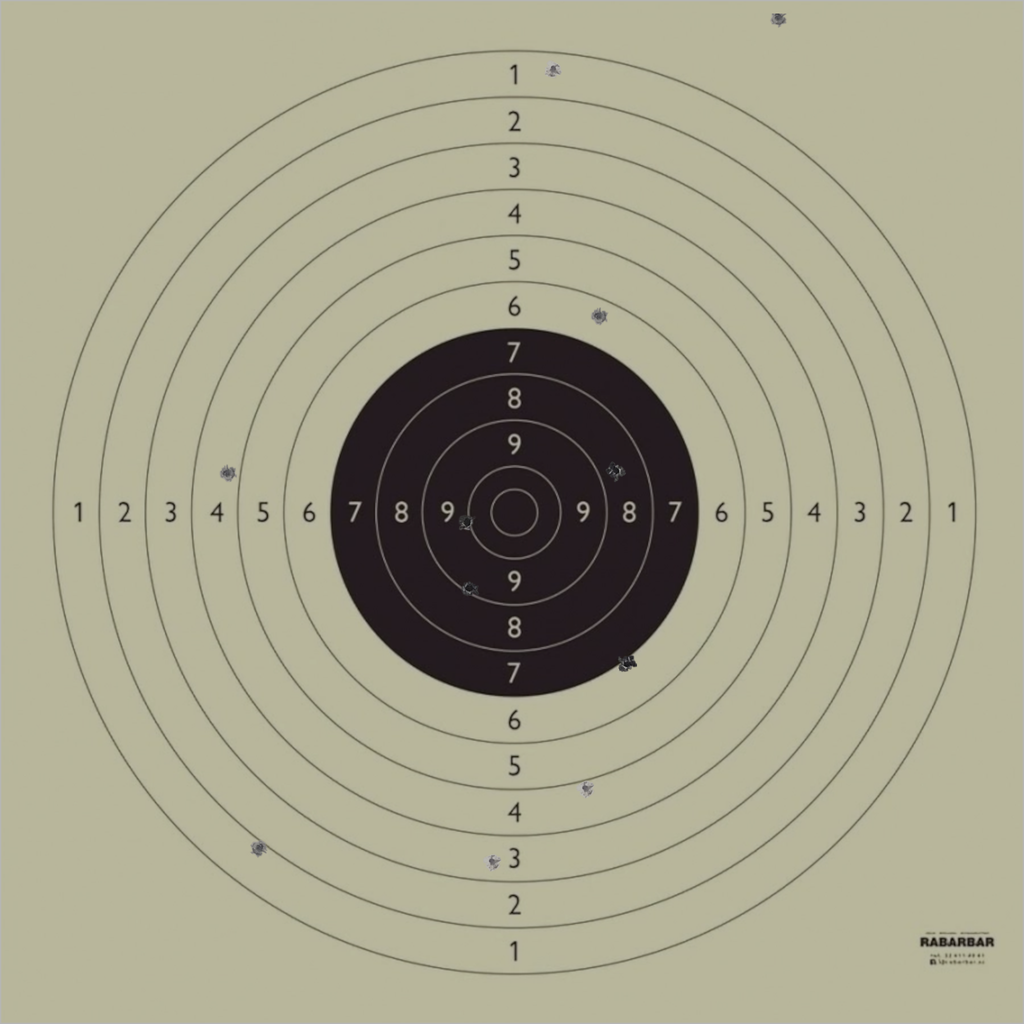0 punktow: (769, 8, 788, 27)
1 punkt: (544, 60, 563, 79)
10 punktow: (458, 513, 476, 532)
2 punkty: (250, 839, 269, 857)
3 punkty: (483, 852, 502, 871)
4 punkty: (218, 464, 237, 482)
5 punktow: (577, 779, 595, 798)
6 punktow: (590, 307, 608, 325)
7 punktow: (618, 655, 637, 673)
8 punktow: (606, 461, 625, 480)
9 punktow: (460, 579, 479, 598)
